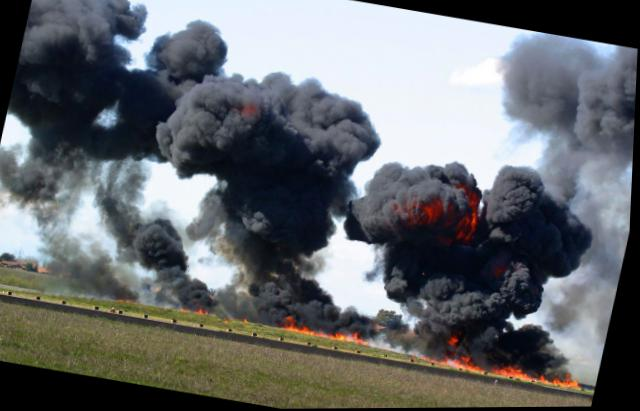fire: (499, 364, 538, 381), (285, 323, 336, 336), (339, 331, 372, 344), (462, 362, 490, 374), (559, 378, 583, 390), (286, 314, 300, 325), (450, 335, 462, 347), (464, 357, 479, 365), (542, 377, 558, 384)
